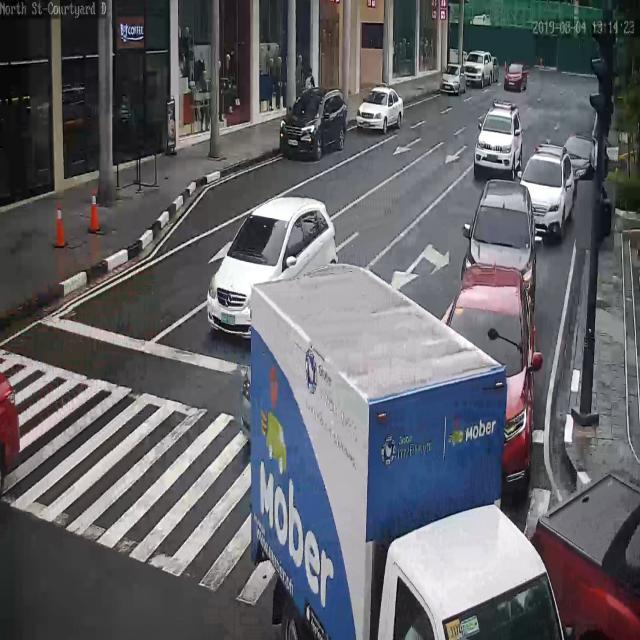car: (448, 264, 536, 500), (207, 195, 338, 335), (532, 473, 640, 640), (460, 178, 536, 316), (520, 143, 575, 237), (280, 87, 347, 160), (476, 102, 522, 174), (0, 369, 20, 493), (355, 86, 404, 133), (563, 132, 598, 186), (464, 50, 492, 86), (441, 65, 467, 96), (505, 61, 528, 91)
motorcycle: (250, 263, 564, 640)
